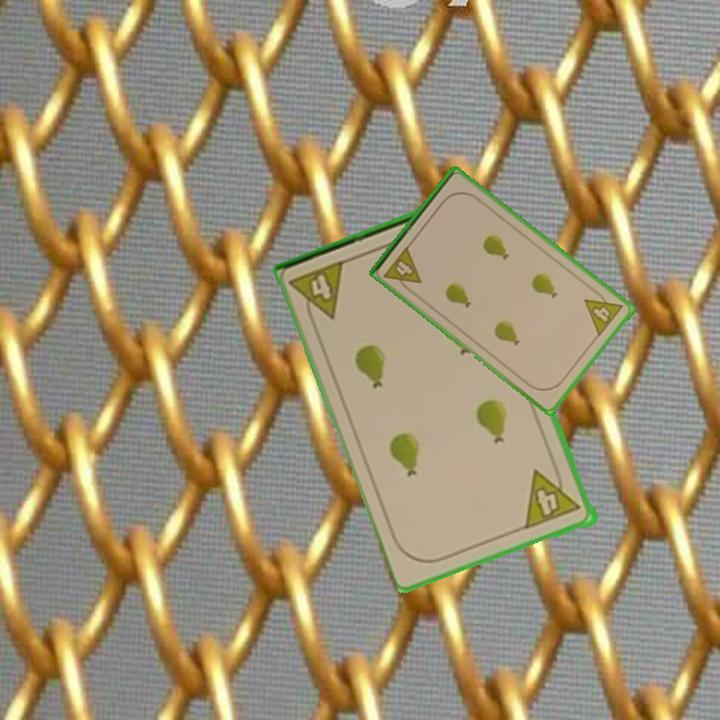4p: (286, 257, 348, 330), (522, 461, 585, 532), (581, 285, 626, 339), (380, 242, 424, 295)
